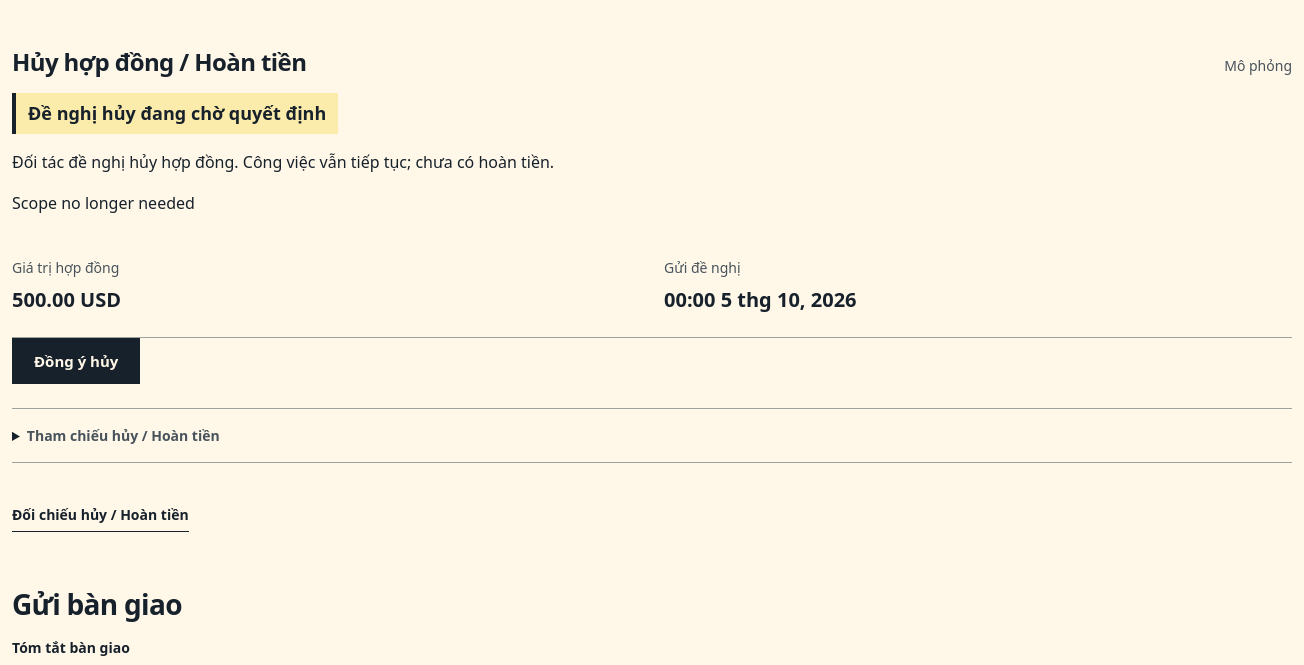
Test: P0 contract cancellation and refund › counterparty accepts only the allowed decision and pending refund locks submission
(page scrolled)
What coordinates should you click on to do the following:
click the button "Đồng ý hủy"
I would click on:
 (76, 361)
Its box is [12, 338, 140, 384].
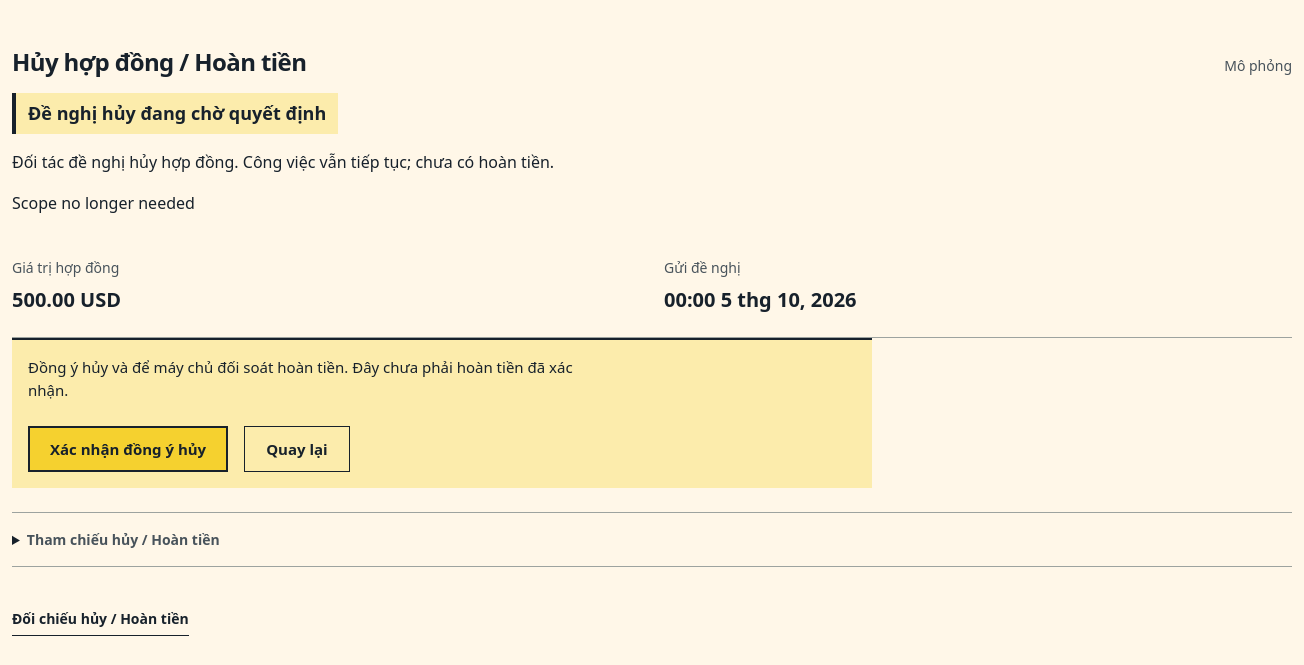
Now the element named "Xác nhận quyết định hủy" shows "Đây chưa phải hoàn tiền đã xác nhận", box [28, 357, 573, 400]
Now the button "Xác nhận đồng ý hủy" is shown
What coordinates should you click on to do the following:
click the button "Xác nhận đồng ý hủy"
I would click on:
 (128, 449)
Its box is [28, 426, 228, 472].
(page scrolled)
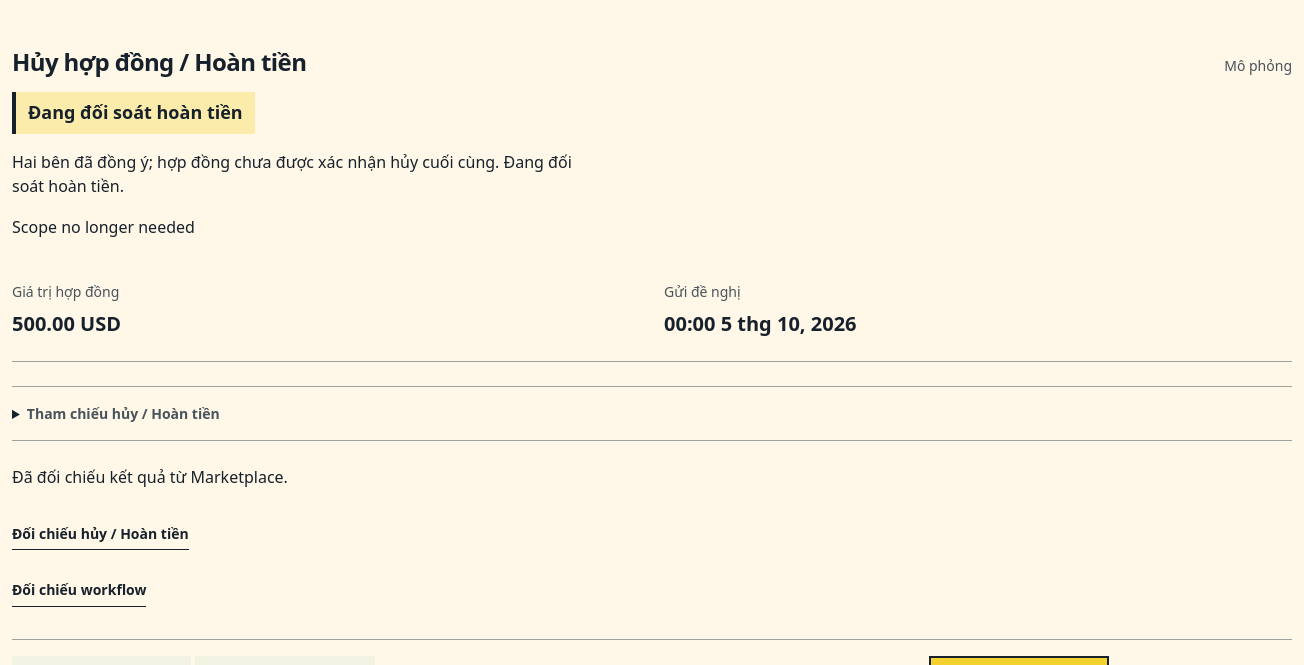
Now the text "chưa được xác nhận hủy cuối cùng" is shown, box [12, 151, 504, 173]
